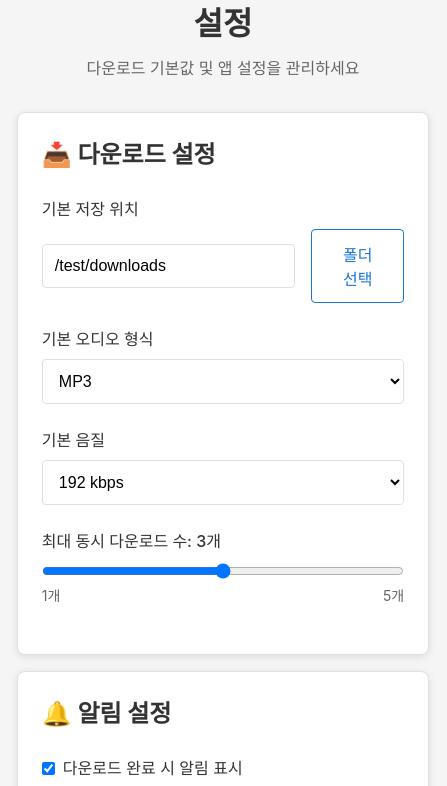
Test: Task 4.3 SettingsView UI Functionality › Loading and Disabled States › should disable form elements while saving
// Start save operation
Select "WAV" in the dropdown labelled "기본 오디오 형식". click: (223, 382)
box: [42,359,404,404]
(page scrolled)
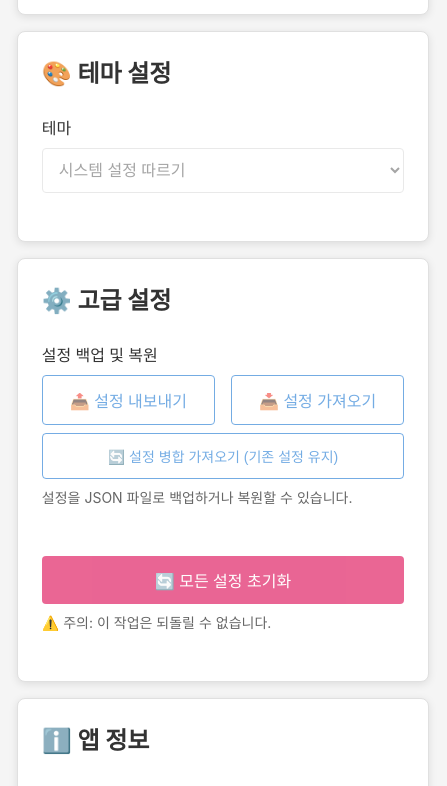
Expected: the button "📤 설정 내보내기" is disabled, [42,375,215,425]
